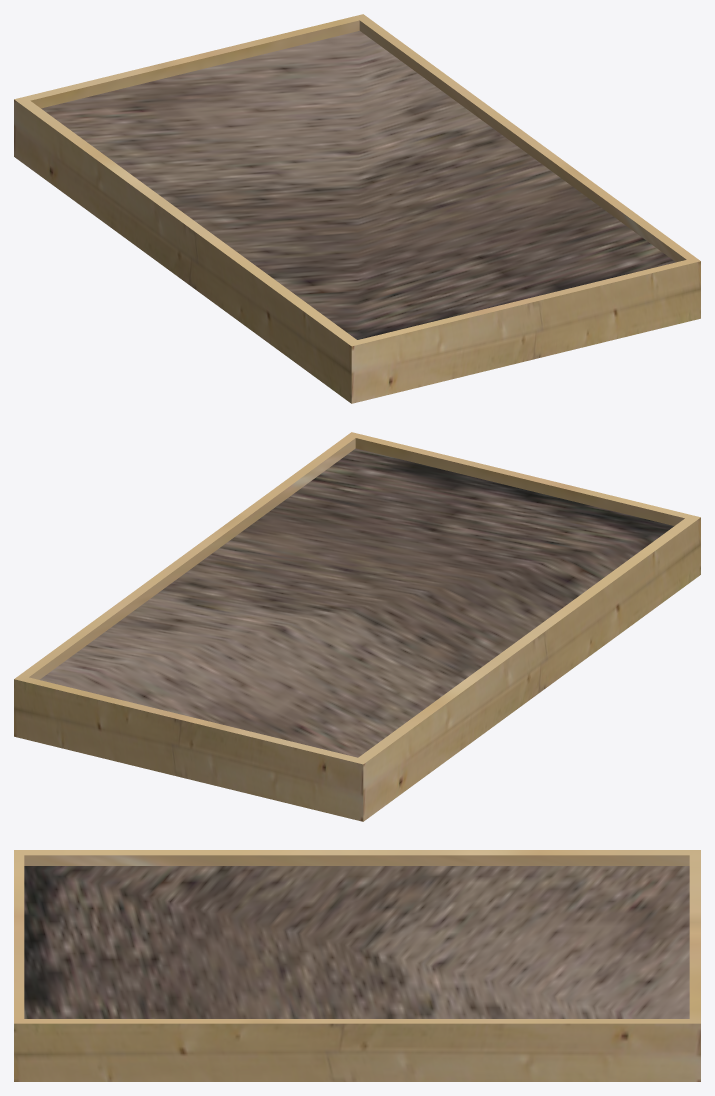
Rendered from GardenBed.fbx.
The picture shows the model from 3 angles, top to bottom: view 1: azimuth 30°, elevation 25°; view 2: azimuth 150°, elevation 25°; view 3: azimuth 270°, elevation 25°; orthographic projection.
Parts seen in each view (by area): view 1: GardenBed; view 2: GardenBed; view 3: GardenBed.
Boxes of the visible parts, x1,y1,x2,y2 form: GardenBed: (14, 14, 700, 403); GardenBed: (14, 432, 700, 821); GardenBed: (14, 850, 700, 1081).
Size of the model in its own units: 122 by 19.12 by 204.
1 material, 1 textured.
